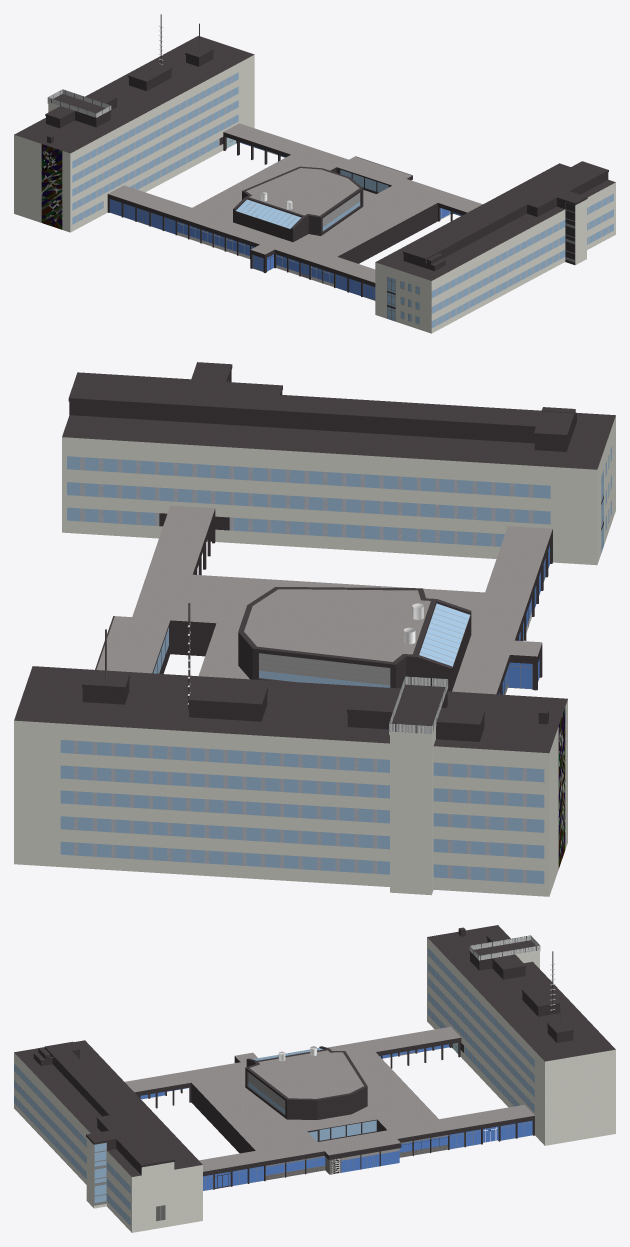
3 renders of one model, top to bottom at view 1: azimuth 30°, elevation 25°; view 2: azimuth 150°, elevation 25°; view 3: azimuth 270°, elevation 25°, orthographic. The views are drawn at different scales.
Visible parts, largest first — view 1: Sketchup.004; view 2: Sketchup.004; view 3: Sketchup.004.
Part boxes in pixels (x1,y1,x2,y2): Sketchup.004: (14,14,615,333); Sketchup.004: (14,362,615,896); Sketchup.004: (14,925,615,1232).
Bounding box in the file's own units: 98.94 × 30.42 × 113.
Materials: 16 (14 with a texture image).
